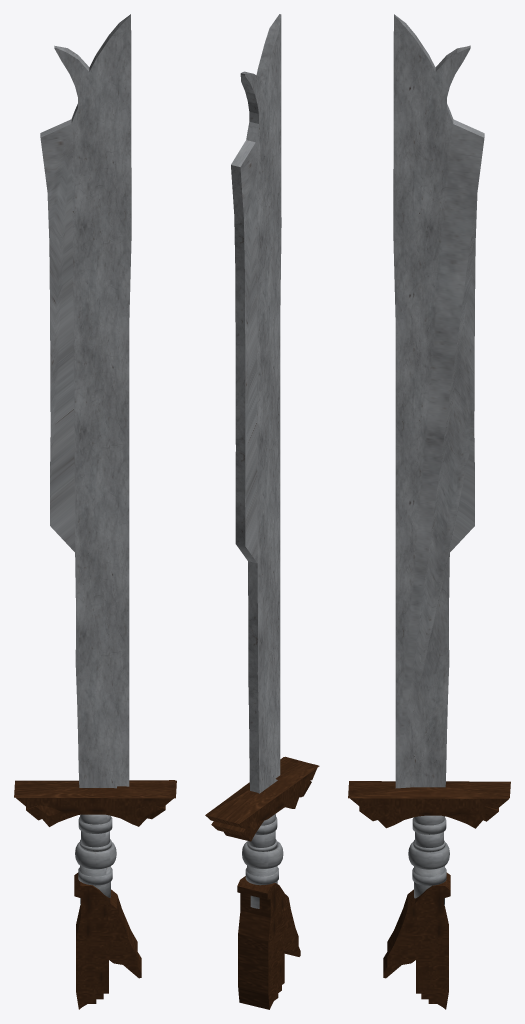
File: SwordOnly.fbx
3 views of the same model, side by side, from view 1: azimuth 90°, elevation 25°; view 2: azimuth 150°, elevation 25°; view 3: azimuth 270°, elevation 25° (orthographic).
Parts seen in each view (by area): view 1: Plane.002_Plane, Plane.001_Plane.016, Plane.006, Plane.004_Plane.002; view 2: Plane.002_Plane, Plane.006, Plane.001_Plane.016, Plane.004_Plane.002; view 3: Plane.002_Plane, Plane.001_Plane.016, Plane.006, Plane.004_Plane.002.
Boxes of the visible parts, left/top/right/bottom form: Plane.002_Plane: left=40, top=14, right=131, bottom=788; Plane.001_Plane.016: left=14, top=780, right=176, bottom=826; Plane.006: left=74, top=872, right=141, bottom=1009; Plane.004_Plane.002: left=75, top=814, right=116, bottom=904; Plane.002_Plane: left=231, top=14, right=281, bottom=793; Plane.006: left=237, top=876, right=300, bottom=1009; Plane.001_Plane.016: left=205, top=756, right=319, bottom=841; Plane.004_Plane.002: left=242, top=814, right=283, bottom=908; Plane.002_Plane: left=393, top=14, right=484, bottom=788; Plane.001_Plane.016: left=348, top=781, right=510, bottom=828; Plane.006: left=383, top=872, right=450, bottom=1009; Plane.004_Plane.002: left=408, top=815, right=449, bottom=905.
Size of the model in its own units: 386 by 9924 by 1483.
